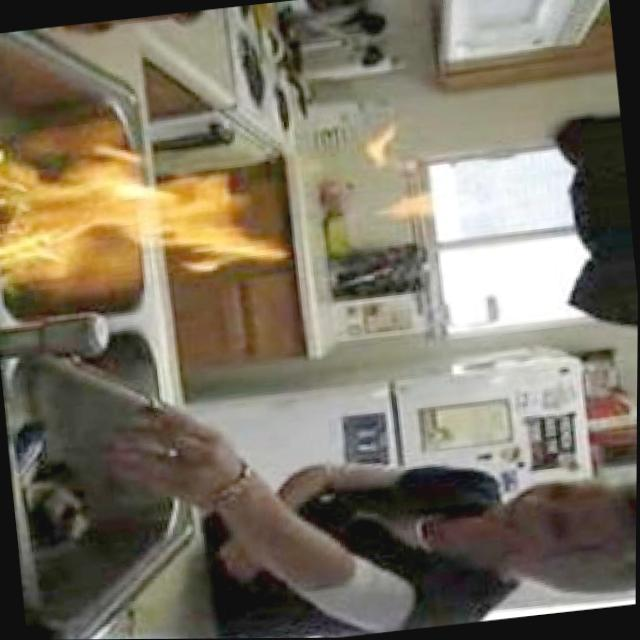helmet: (0, 121, 293, 305), (350, 112, 446, 240)
